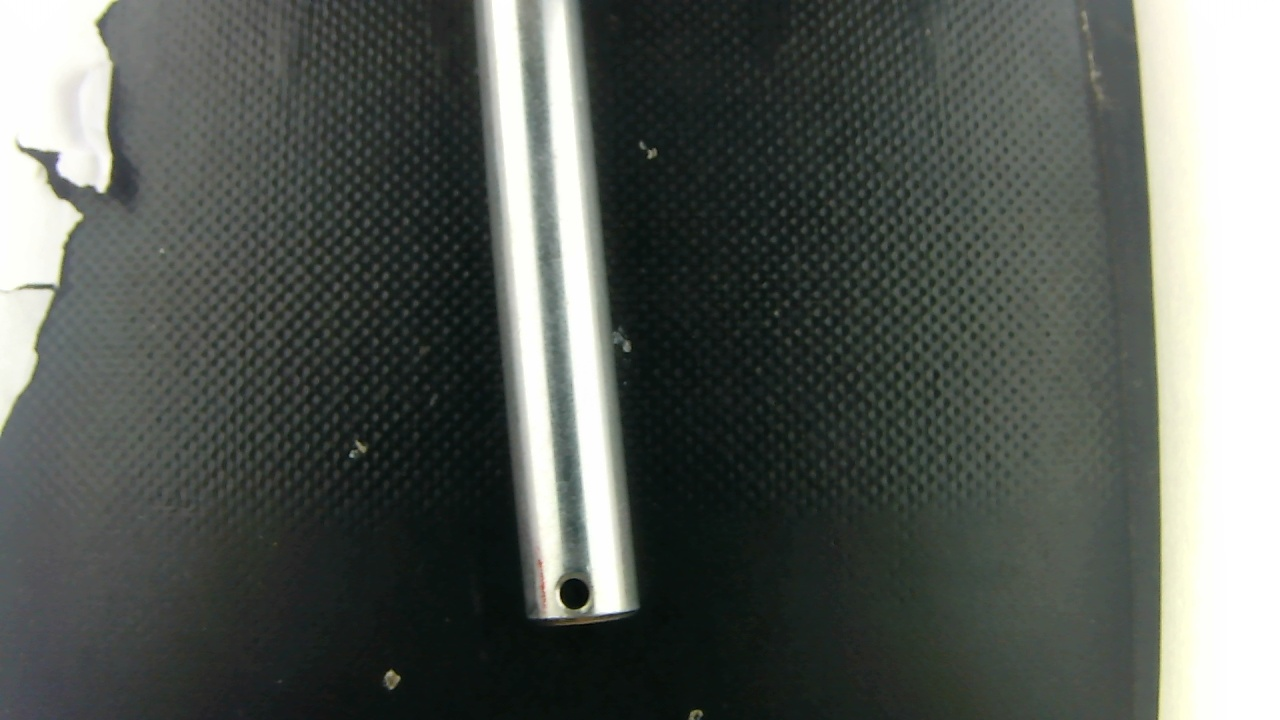black patch_pin: (522, 561, 561, 620)
